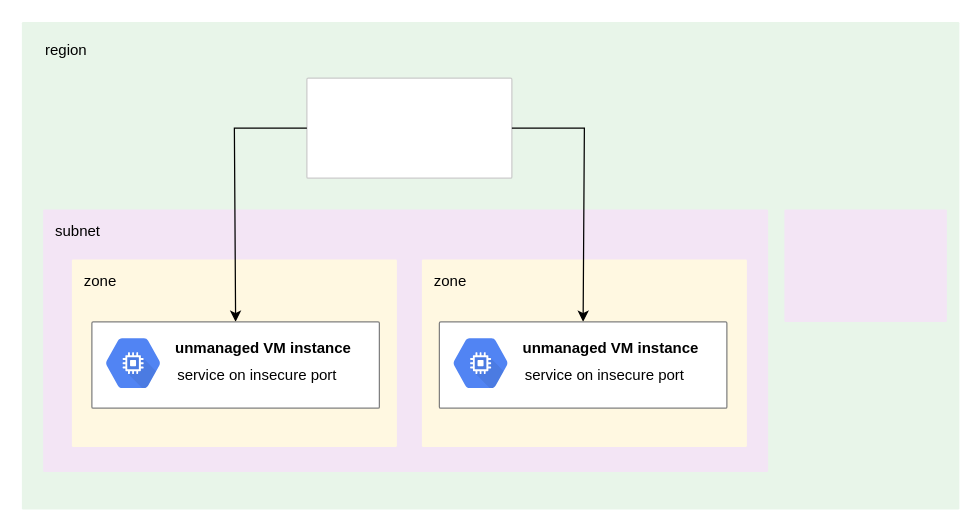
The diagram is 980 pixels wide and 530 high, and some of its shapes have lost their labels. Here are the shapes that lost their labels. From the top down, the centre of each, then its label:
(x=409, y=127): regional Internal HTTPS load balancer
(x=865, y=265): proxy-only-subnet load balancer src IP seen by backends
